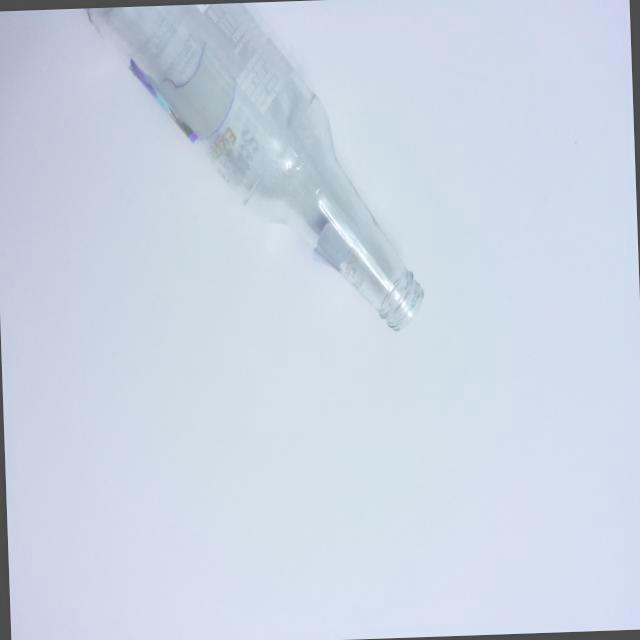glass: (62, 0, 432, 353)
